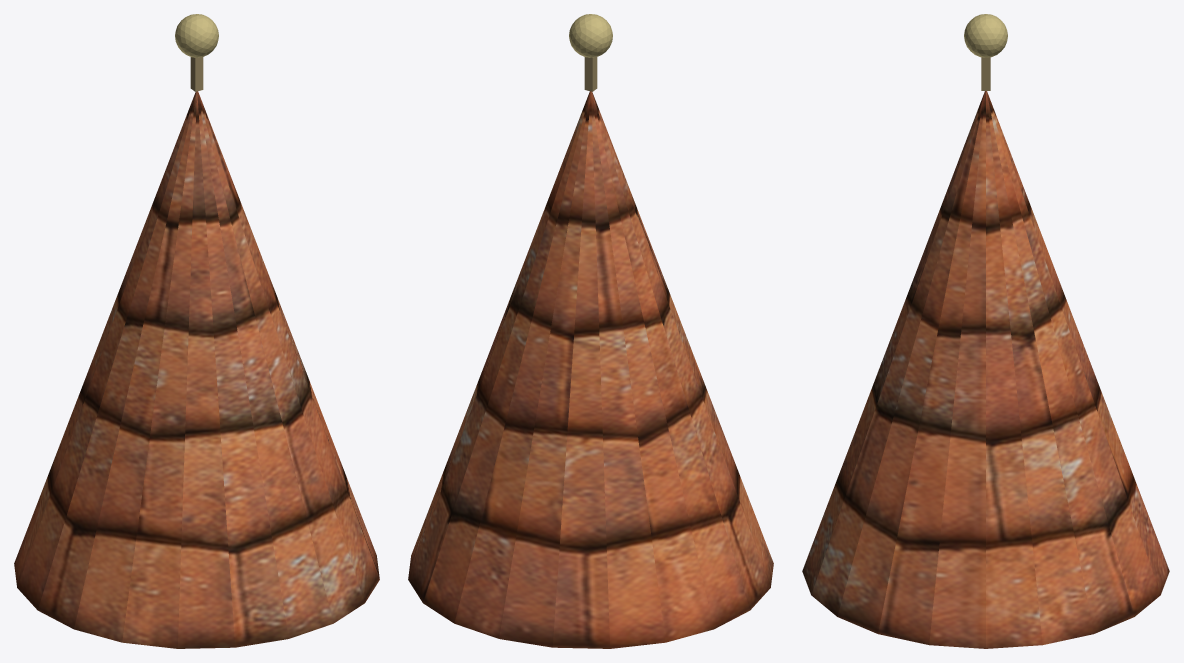
File: turmhelm_spitz_knauf_4m.glb
The picture shows the model from 3 angles, left to right: view 1: azimuth 30°, elevation 25°; view 2: azimuth 150°, elevation 25°; view 3: azimuth 270°, elevation 25°; orthographic projection.
Parts seen in each view (by area): view 1: spire_roof, gold_finial; view 2: spire_roof, gold_finial; view 3: spire_roof, gold_finial.
Part boxes in pixels (x1,y1,x2,y2): spire_roof: (14,91,379,648); gold_finial: (175,14,218,57); spire_roof: (408,91,773,648); gold_finial: (569,14,612,57); spire_roof: (802,91,1169,648); gold_finial: (964,14,1007,57).
Bounding box in the file's own units: 4 × 6.67 × 4.
1 material, 1 textured.
